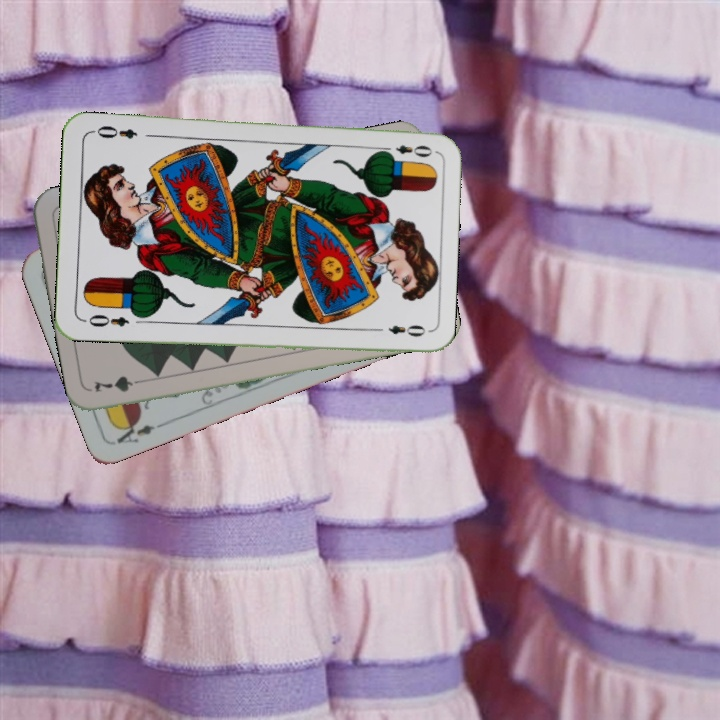EA: (112, 415, 168, 447)
EO: (377, 140, 435, 160), (79, 310, 132, 330)
G7: (89, 371, 149, 395)
